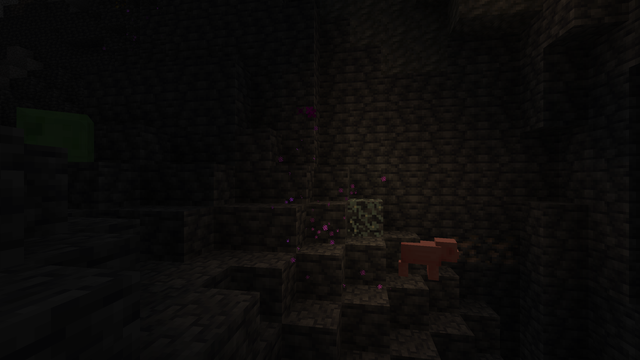cochons: (402, 238, 442, 281)
slimes: (8, 106, 103, 163)
